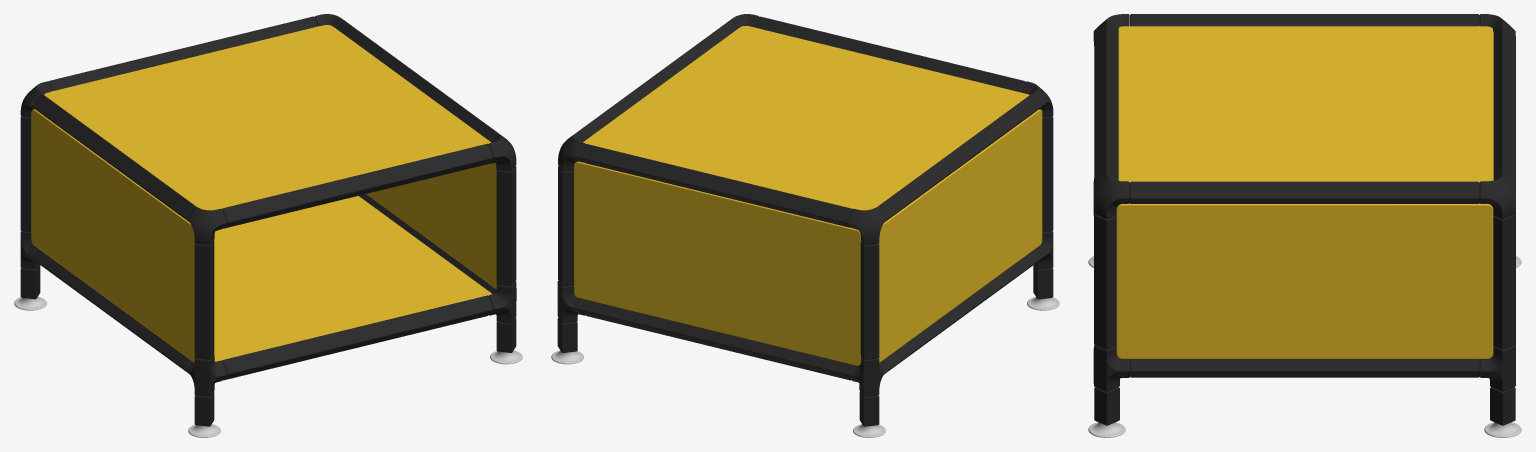
3 views of the same model, side by side, from view 1: azimuth 30°, elevation 25°; view 2: azimuth 150°, elevation 25°; view 3: azimuth 270°, elevation 25° (orthographic). The views are drawn at different scales.
Parts seen in each view (by area): view 1: 374x374x154; view 2: 374x374x154; view 3: 374x374x154.
Boxes of the visible parts, x1,y1,x2,y2 form: 374x374x154: (14, 14, 522, 437); 374x374x154: (551, 14, 1059, 437); 374x374x154: (1088, 14, 1521, 437).
Bounding box in the file's own units: 0.4639 × 0.2933 × 0.4632.
